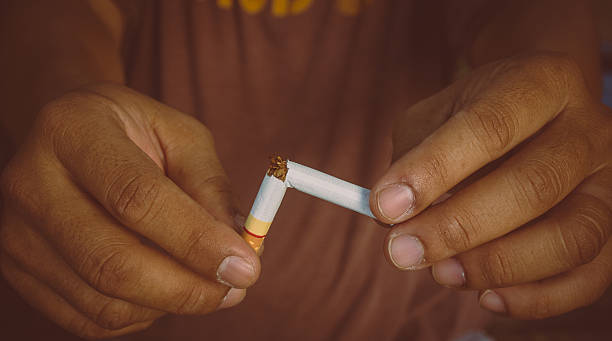cigarette: (280, 159, 396, 227), (238, 156, 288, 248)
